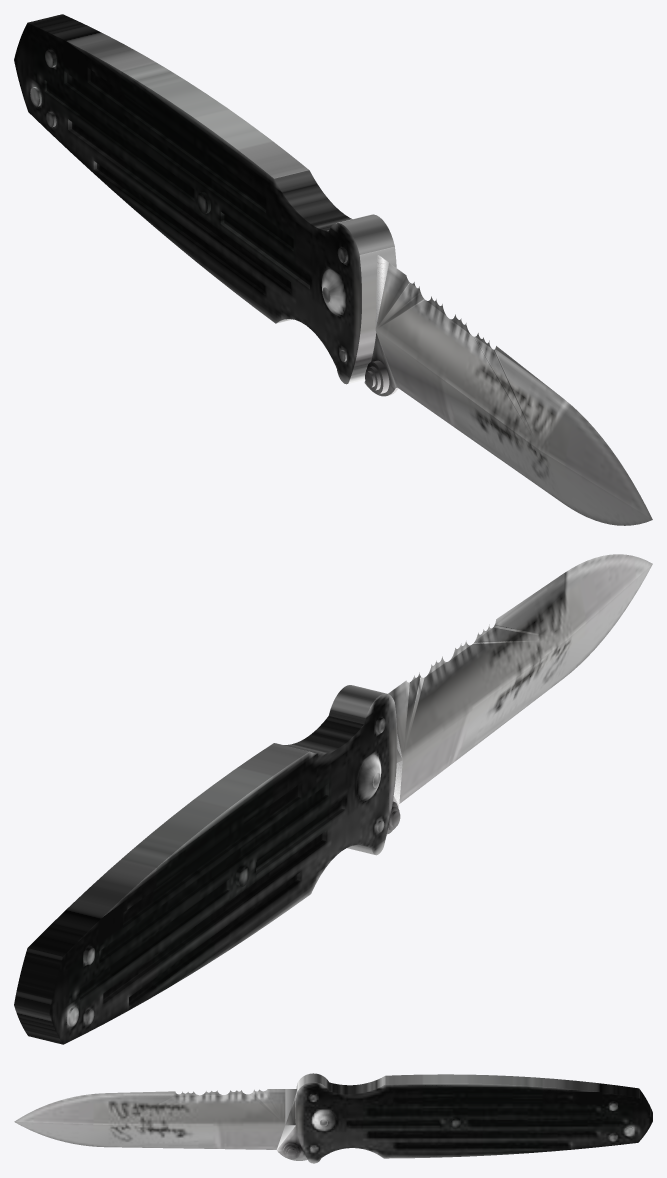
File: model_scale.obj
3 views of the same model, one above another, from view 1: azimuth 30°, elevation 25°; view 2: azimuth 150°, elevation 25°; view 3: azimuth 270°, elevation 25° (orthographic). The views are drawn at different scales.
Visible parts, largest first — view 1: mesh4_mesh4-geometry, mesh1_mesh1-geometry; view 2: mesh4_mesh4-geometry, mesh1_mesh1-geometry; view 3: mesh4_mesh4-geometry, mesh1_mesh1-geometry.
Part boxes in pixels (x1=…): mesh4_mesh4-geometry: x1=14, y1=14, x2=396, y2=384; mesh1_mesh1-geometry: x1=364, y1=254, x2=652, y2=525; mesh4_mesh4-geometry: x1=14, y1=685, x2=397, y2=1044; mesh1_mesh1-geometry: x1=387, y1=554, x2=652, y2=834; mesh4_mesh4-geometry: x1=295, y1=1073, x2=652, y2=1163; mesh1_mesh1-geometry: x1=14, y1=1089, x2=307, y2=1160.
Bounding box in the file's own units: 0.0105 × 0.0322 × 0.2252.
4 materials, 1 textured.
